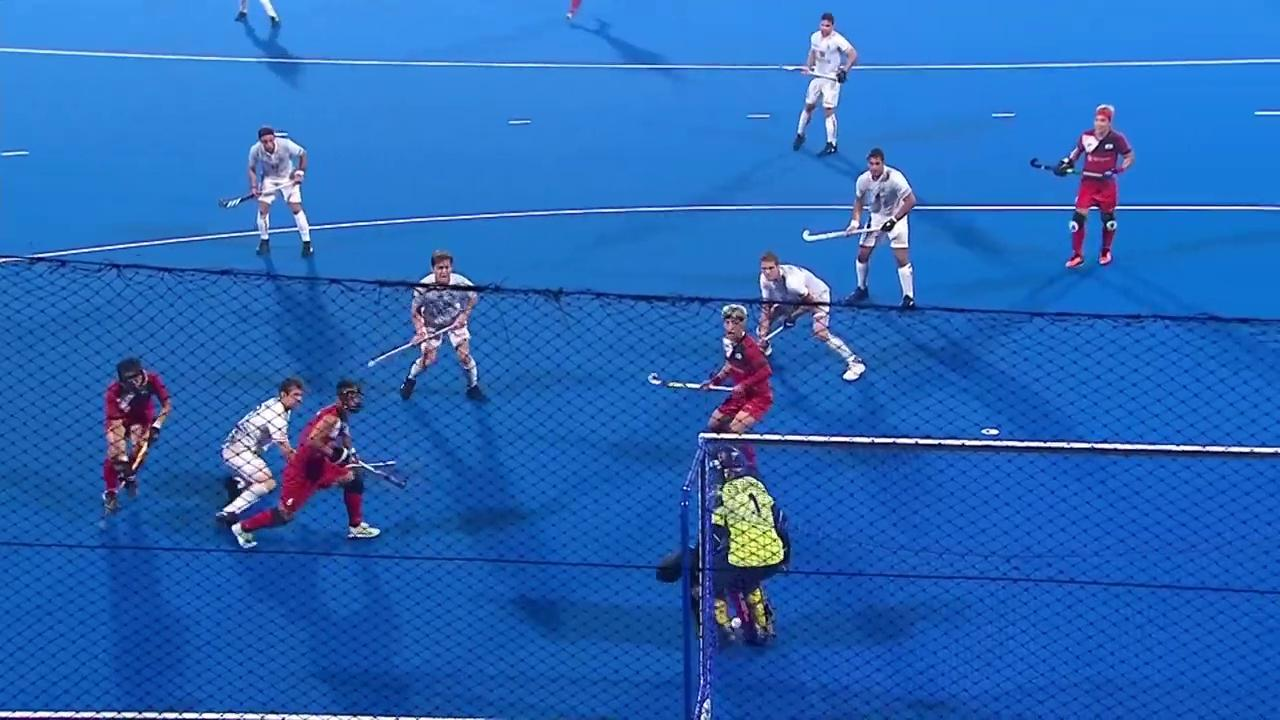ball: (970, 416, 1002, 443)
